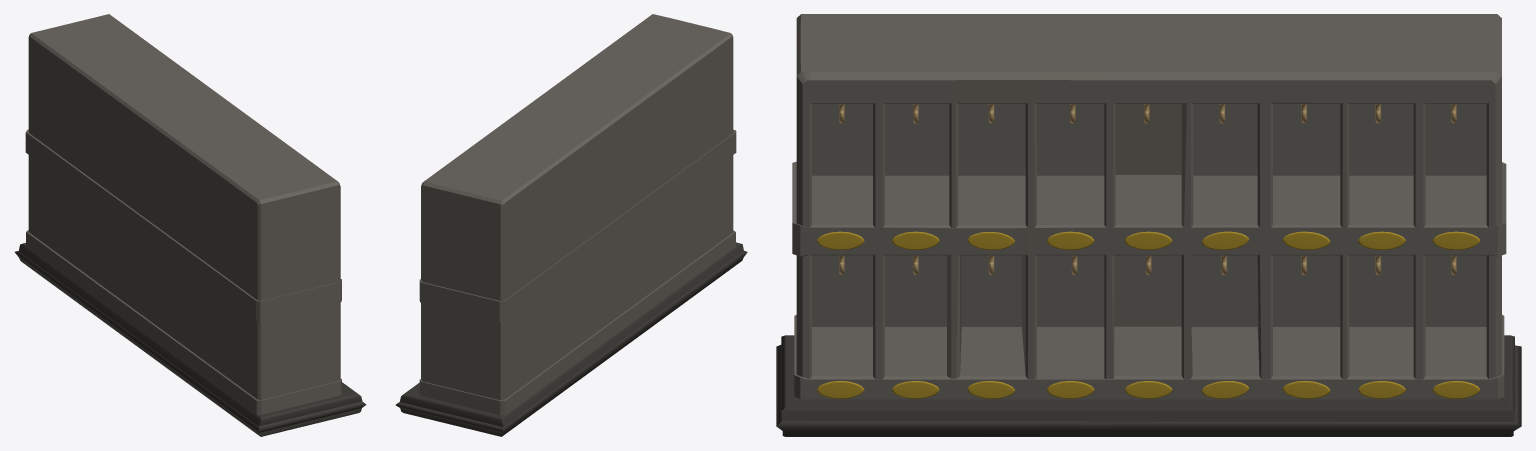
The model's file is Sari_KeyCubby.fbx.
3 views of the same model, side by side, from view 1: azimuth 30°, elevation 25°; view 2: azimuth 150°, elevation 25°; view 3: azimuth 270°, elevation 25° (orthographic). The views are drawn at different scales.
Visible parts, largest first — view 1: polySurface19, pCube1; view 2: polySurface19, pCube1; view 3: polySurface19, pCube1, pPlates, phook3.
Boxes of the visible parts, <box> form: polySurface19: <box>25,14,341,414</box>; pCube1: <box>15,243,366,436</box>; polySurface19: <box>419,14,736,415</box>; pCube1: <box>395,242,747,436</box>; polySurface19: <box>792,14,1506,399</box>; pCube1: <box>776,335,1521,436</box>; pPlates: <box>817,231,1479,398</box>; phook3: <box>839,104,1456,275</box>.
Bounding box in the file's own units: 2.81 × 5.78 × 11.06.
